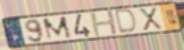4: (73, 13, 93, 39)
9: (24, 18, 46, 43)
D: (115, 9, 139, 35)
H: (88, 9, 120, 38)
M: (41, 15, 74, 42)
X: (137, 6, 165, 32)
